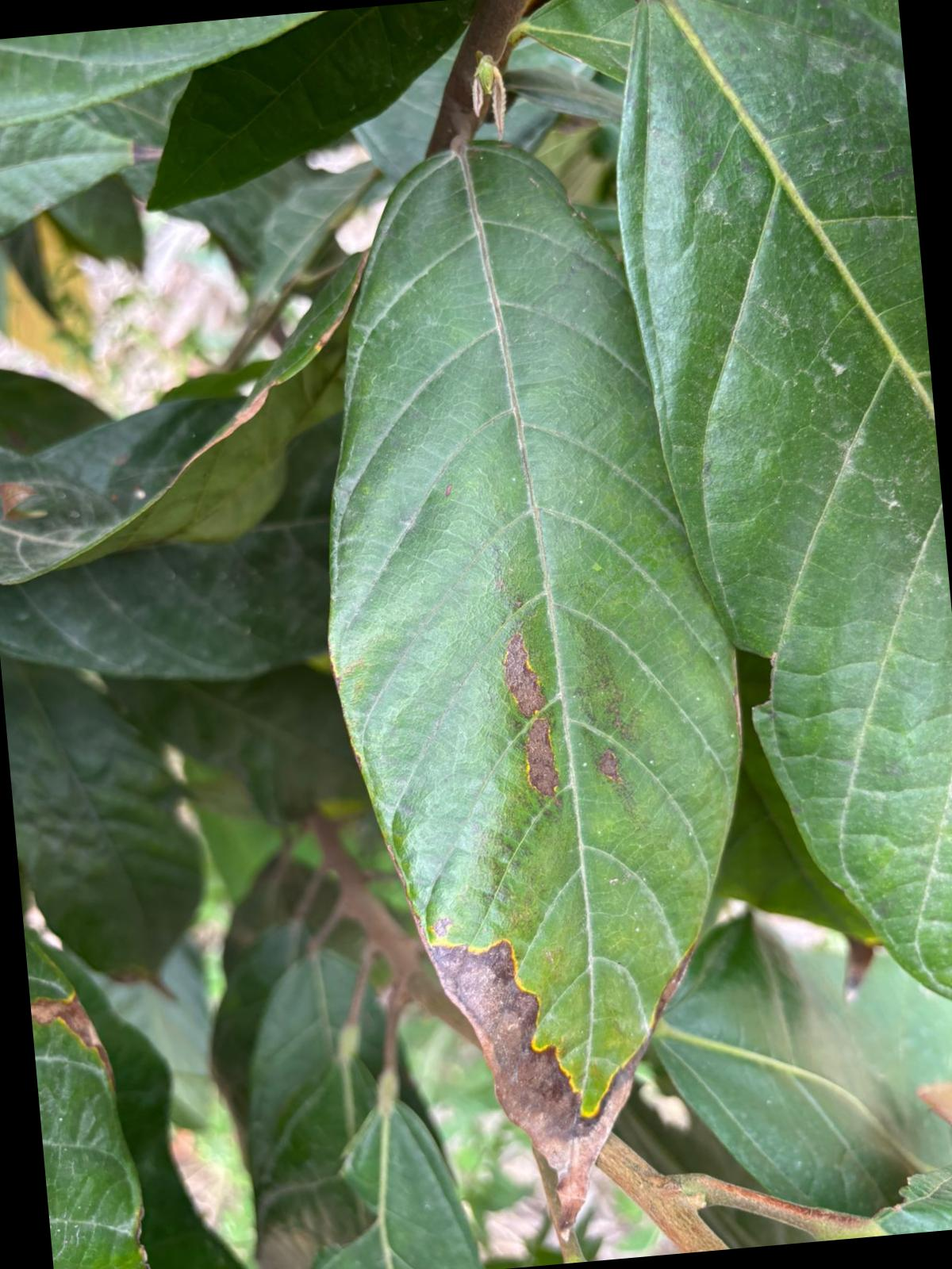Potasio: (330, 144, 739, 1203)
